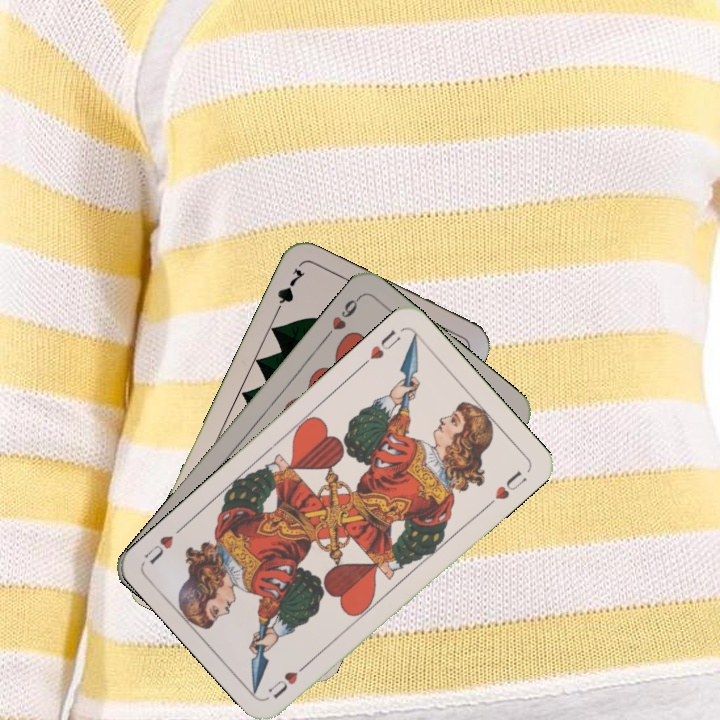G7: (270, 264, 308, 319)
H9: (321, 292, 364, 341)
HU: (264, 657, 313, 701), (357, 325, 404, 370)
